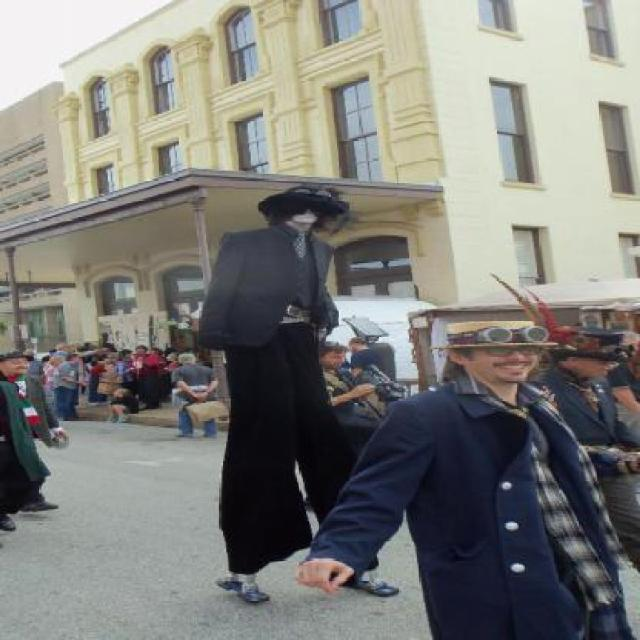face_nomask: (484, 344, 534, 378)
hand_noglove: (291, 546, 354, 600)
person: (382, 312, 640, 639), (199, 168, 361, 606)
shoes: (211, 564, 275, 610)
